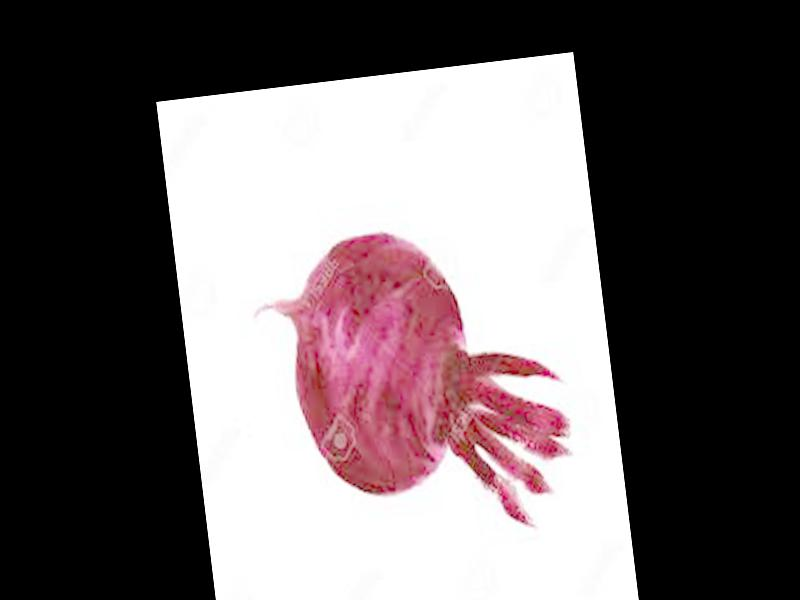Beet: (244, 211, 581, 556)
